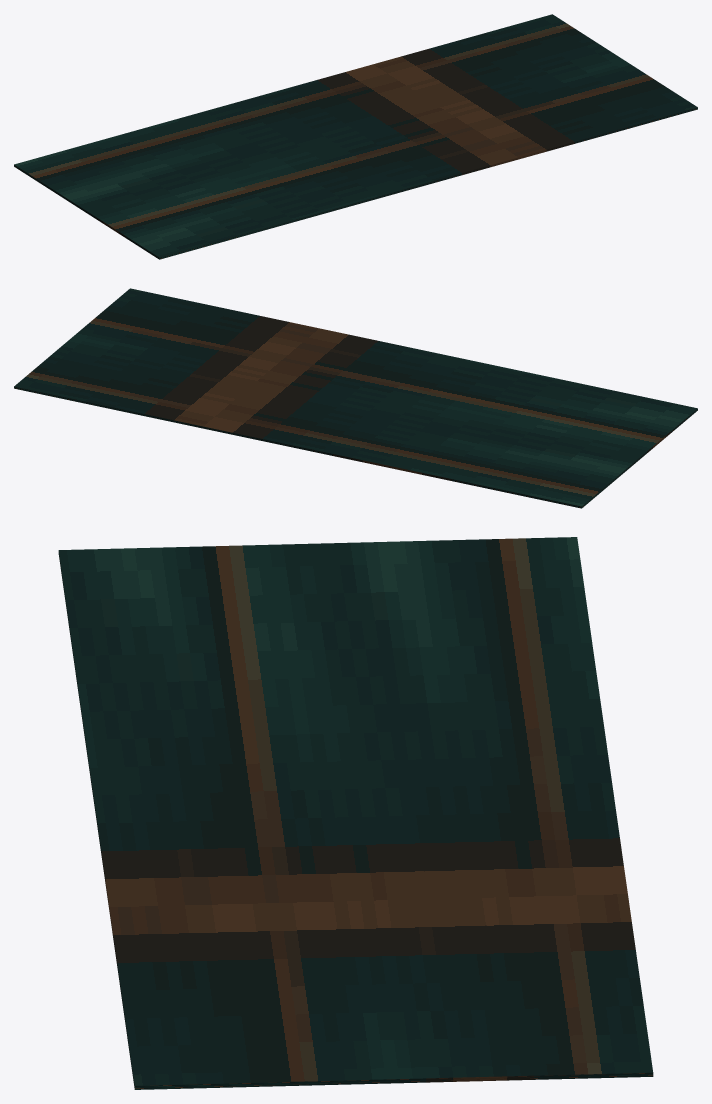
The model's file is prop_water_stain-0.glb.
3 renders of one model, top to bottom at view 1: azimuth 30°, elevation 25°; view 2: azimuth 150°, elevation 25°; view 3: azimuth 270°, elevation 25°, orthographic. The views are drawn at different scales.
Visible parts, largest first — view 1: prop_water_stain-0; view 2: prop_water_stain-0; view 3: prop_water_stain-0.
Boxes of the visible parts, x1=… form: prop_water_stain-0: x1=14, y1=14, x2=697, y2=259; prop_water_stain-0: x1=14, y1=288, x2=697, y2=508; prop_water_stain-0: x1=58, y1=537, x2=653, y2=1089.
Size of the model in its own units: 1.12 by 0.004 by 0.5151.
1 material, 1 textured.
